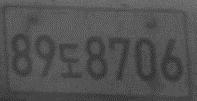0: (133, 36, 158, 83)
6: (160, 38, 185, 84)
7: (108, 35, 132, 84)
8: (9, 31, 32, 78), (84, 36, 108, 81)
9: (34, 34, 56, 79)
도: (57, 40, 83, 80)
